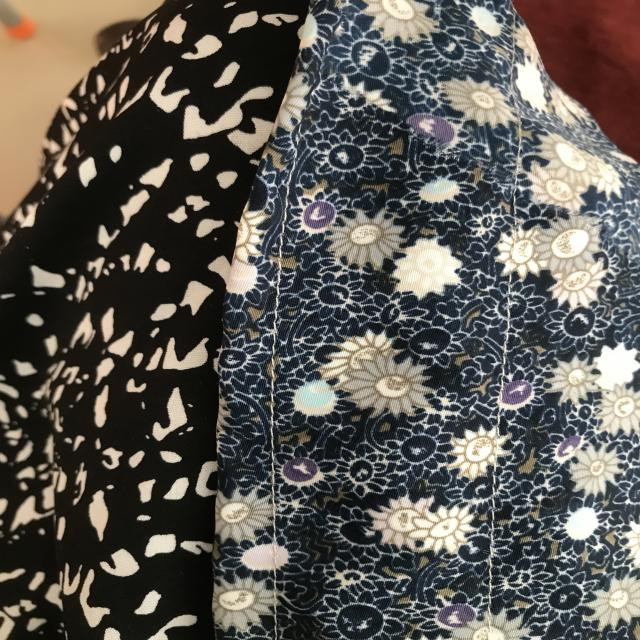good: (261, 250, 291, 453), (488, 284, 530, 366)
